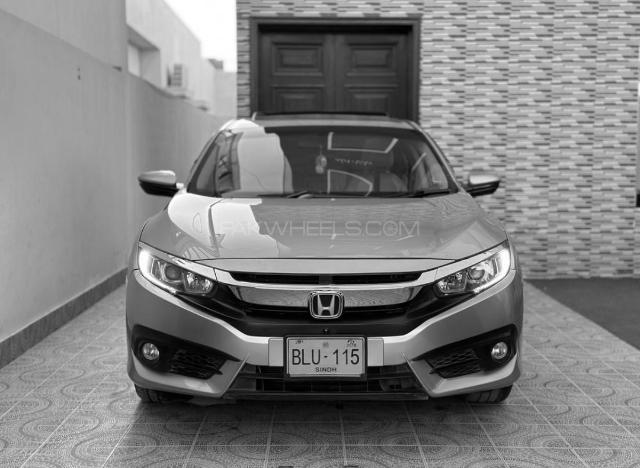Number: (289, 347, 363, 367)
